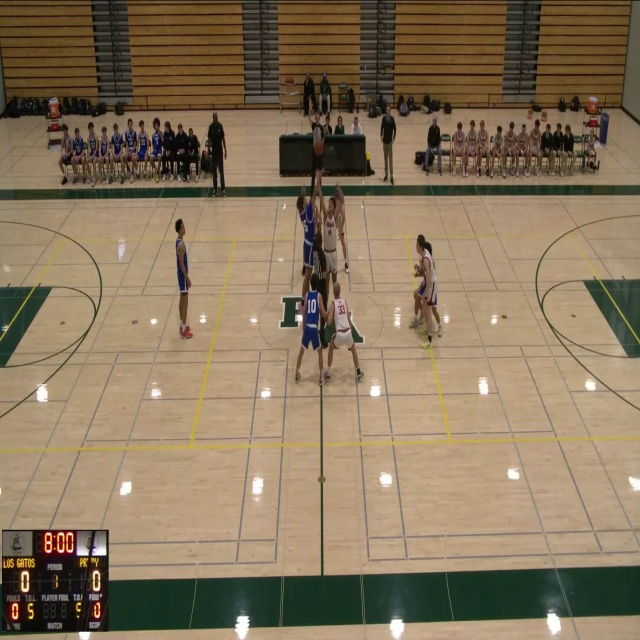Basketball: (314, 141, 324, 155)
